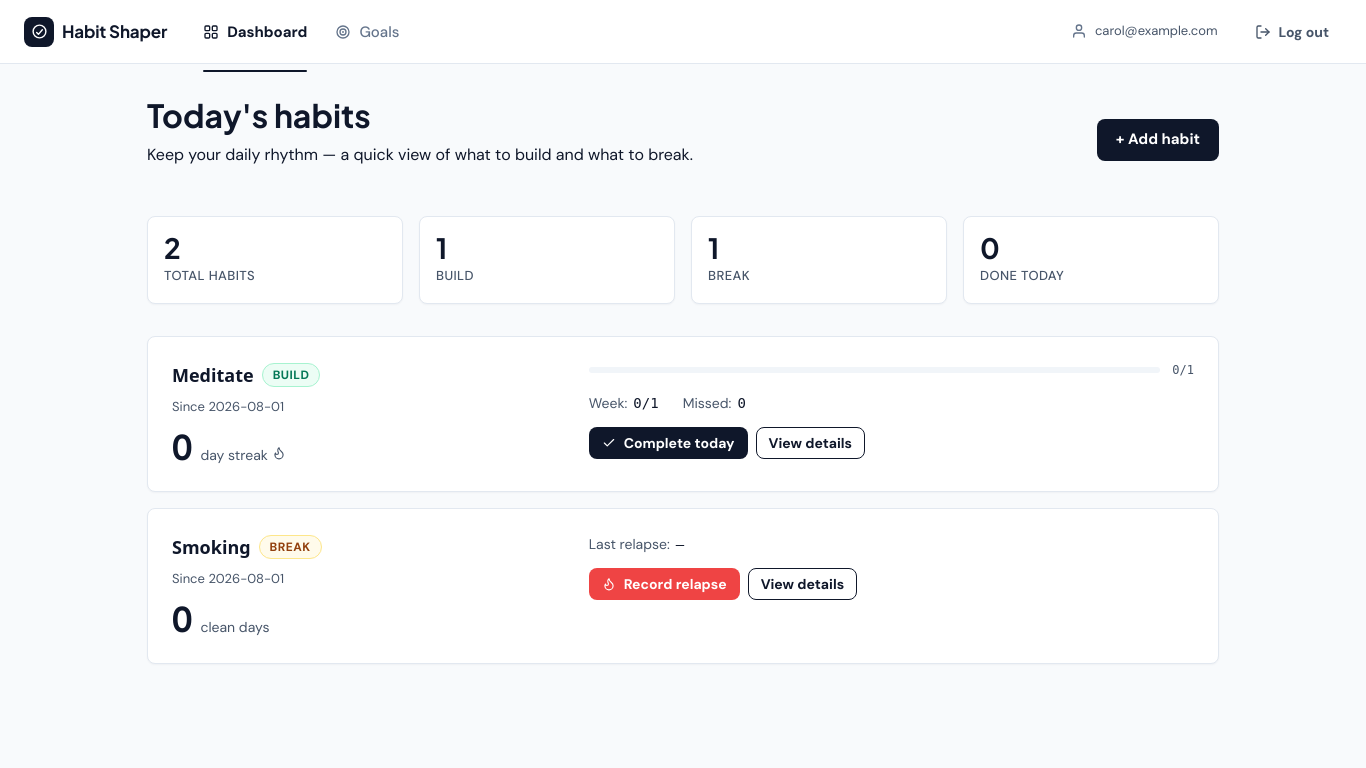
Test: Dashboard — add habit modal › closes the modal via backdrop click
This screenshot has width=1366, height=768.
Expected: the heading "Today's habits" is shown, left=147, top=95, right=371, bottom=135
Click the button "+ Add habit". click: (1158, 140)
box: left=1097, top=119, right=1219, bottom=161
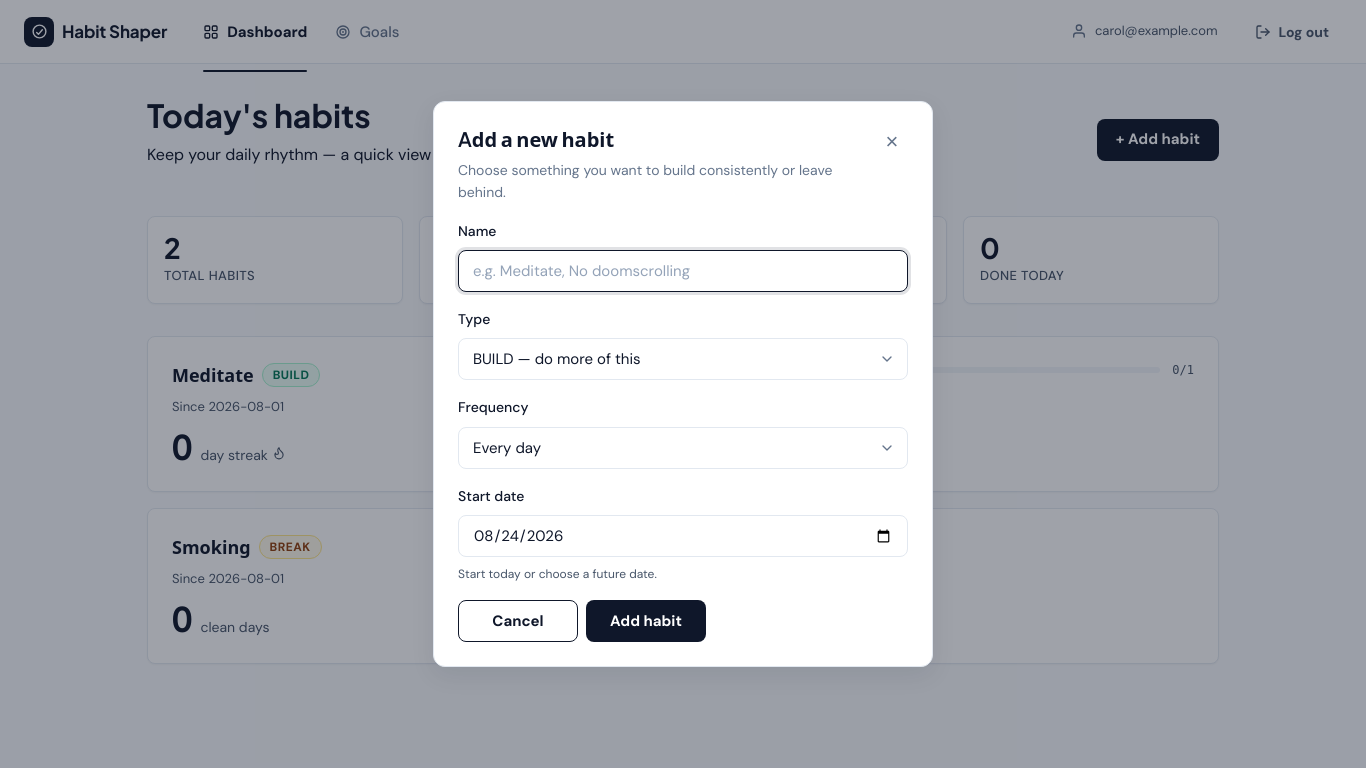
// Click on the backdrop (the dialog's parent) — not inside the dialog.
Click the element that starts with "Add a new habit". click: (82, 384)
box: left=0, top=0, right=1365, bottom=767
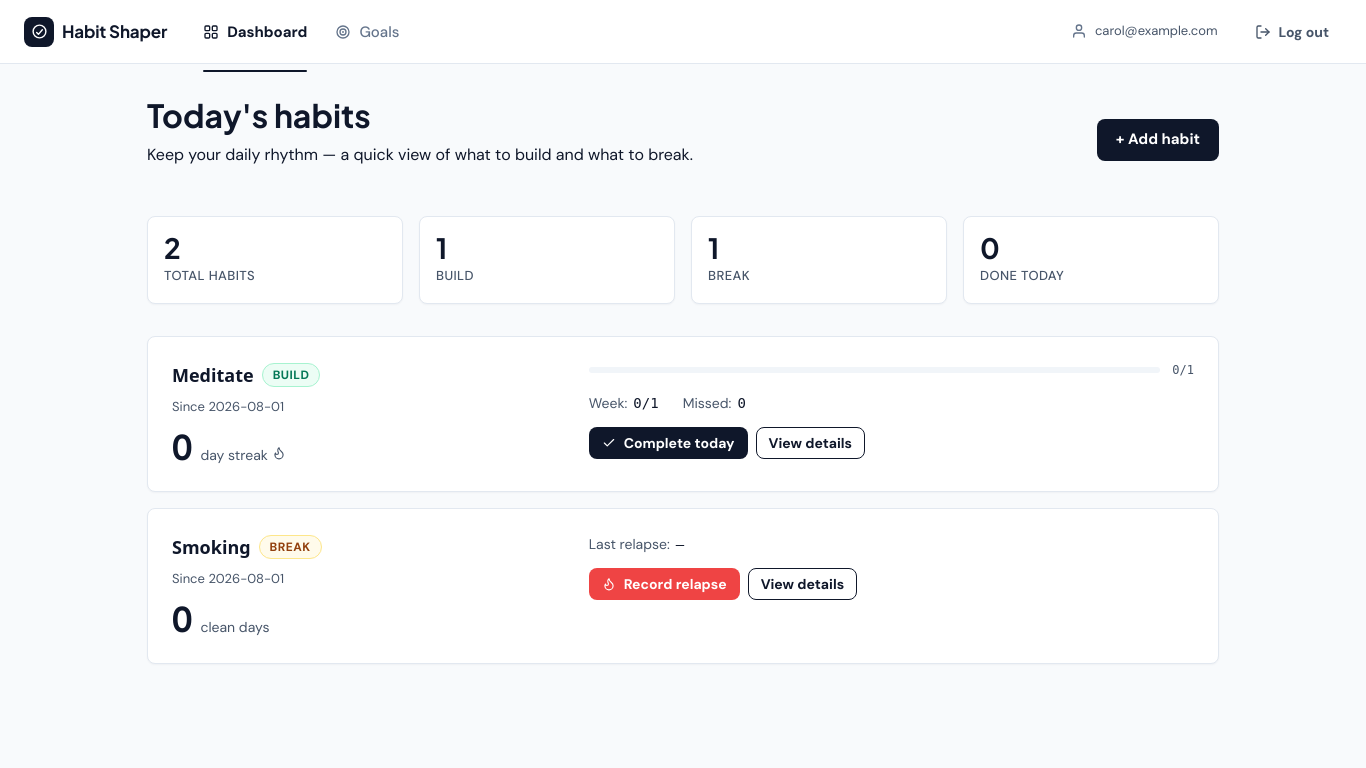
Expected: the dialog is gone
